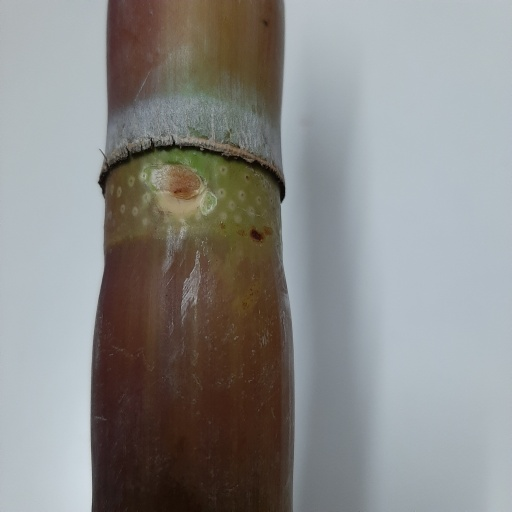Damage_Bud: (145, 163, 204, 200)
